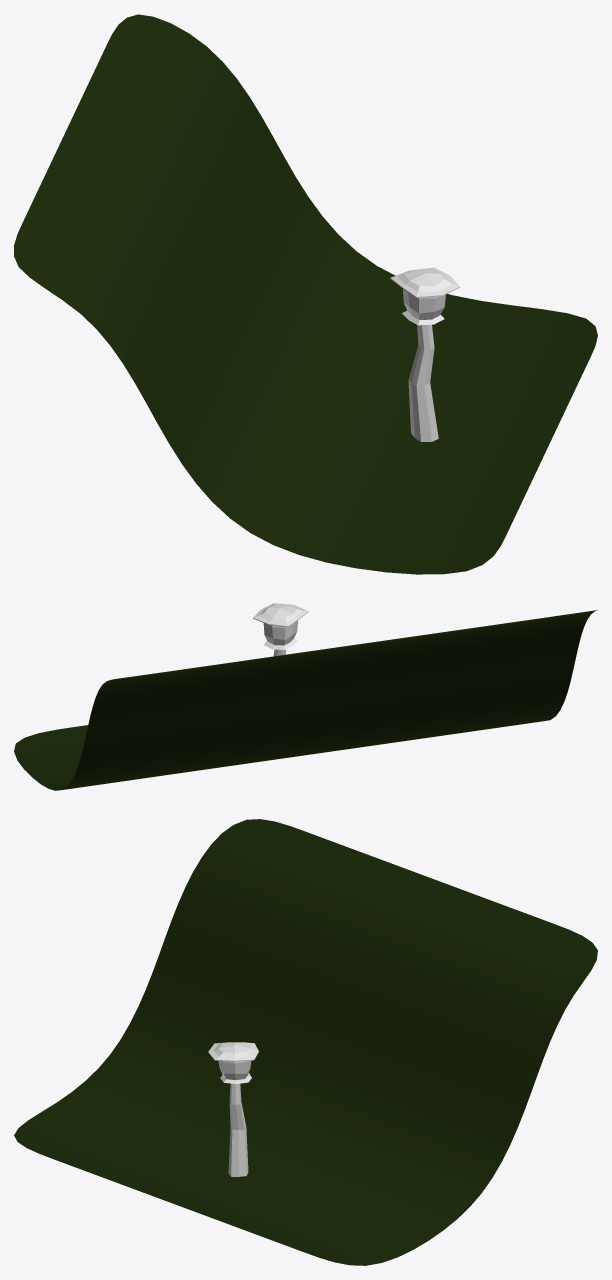
The model's file is Lantern 2.fbx.
The picture shows the model from 3 angles, top to bottom: view 1: azimuth 30°, elevation 25°; view 2: azimuth 150°, elevation 25°; view 3: azimuth 270°, elevation 25°; orthographic projection. The views are drawn at different scales.
Parts seen in each view (by area): view 1: Plane, Cube; view 2: Plane, Cube; view 3: Plane, Cube.
Boxes of the visible parts, x1,y1,x2,y2 form: Plane: (14, 14, 597, 574); Cube: (390, 267, 459, 441); Plane: (14, 610, 597, 790); Cube: (253, 603, 308, 656); Plane: (14, 819, 597, 1265); Cube: (208, 1042, 258, 1176).
Bounding box in the file's own units: 960 × 386 × 979.
